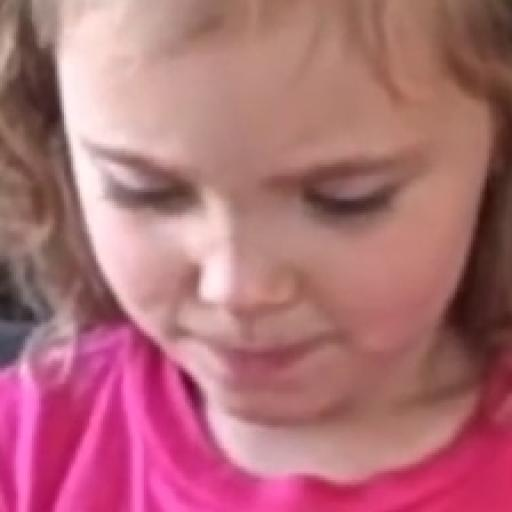Autism: (101, 17, 447, 413)
